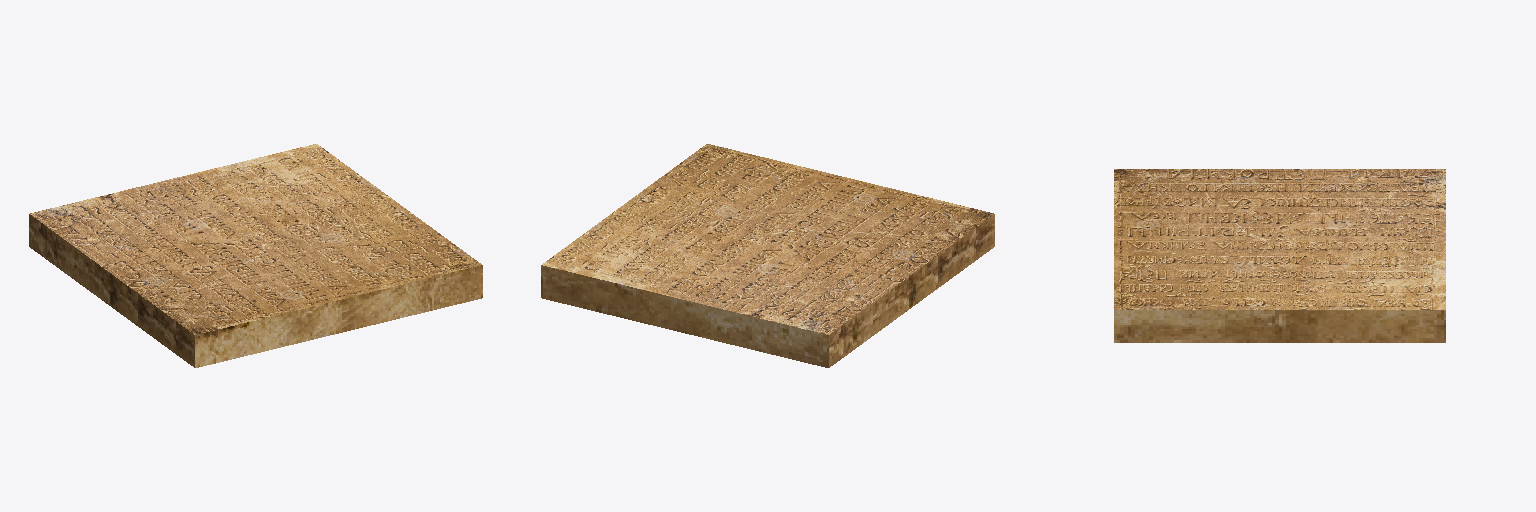
The picture shows the model from 3 angles: view 1: azimuth 30°, elevation 25°; view 2: azimuth 150°, elevation 25°; view 3: azimuth 270°, elevation 25°; orthographic projection.
Parts seen in each view (by area): view 1: Cube; view 2: Cube; view 3: Cube.
Boxes of the visible parts, x1=… form: Cube: x1=29, y1=144, x2=482, y2=367; Cube: x1=541, y1=144, x2=994, y2=367; Cube: x1=1114, y1=169, x2=1445, y2=342.
Bounding box in the file's own units: 2 × 0.2212 × 2.
1 materials, 1 textured.